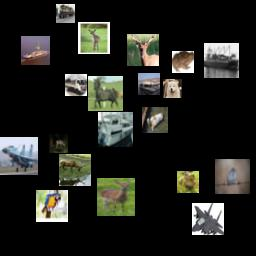airplane: (0, 137, 38, 175), (192, 203, 224, 235)
bird: (215, 159, 250, 194), (36, 190, 68, 222)
cat: (142, 107, 168, 133)
deer: (97, 178, 135, 216), (127, 34, 159, 66), (78, 22, 110, 54), (59, 154, 91, 186), (49, 134, 68, 153)
dog: (163, 79, 182, 98)
frog: (172, 51, 194, 73), (177, 171, 199, 193)
ship: (204, 43, 239, 78), (98, 112, 133, 147), (21, 36, 50, 65), (138, 73, 160, 95)
truck: (65, 74, 87, 96), (56, 4, 75, 23)
